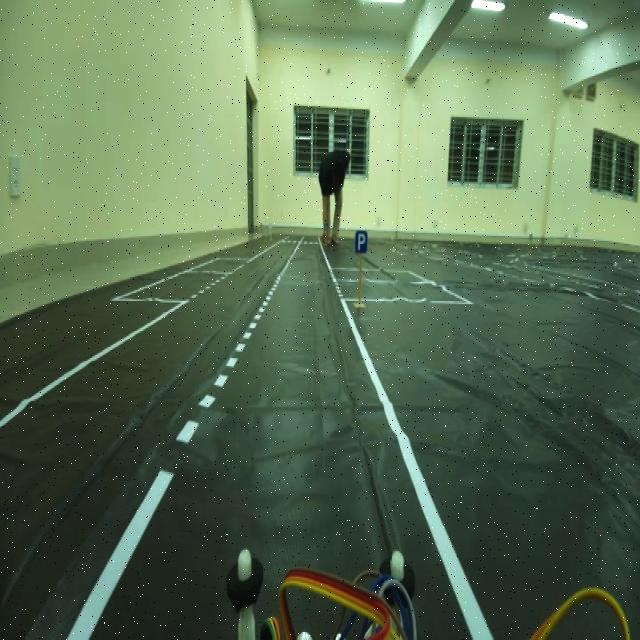parking: (349, 224, 372, 261)
